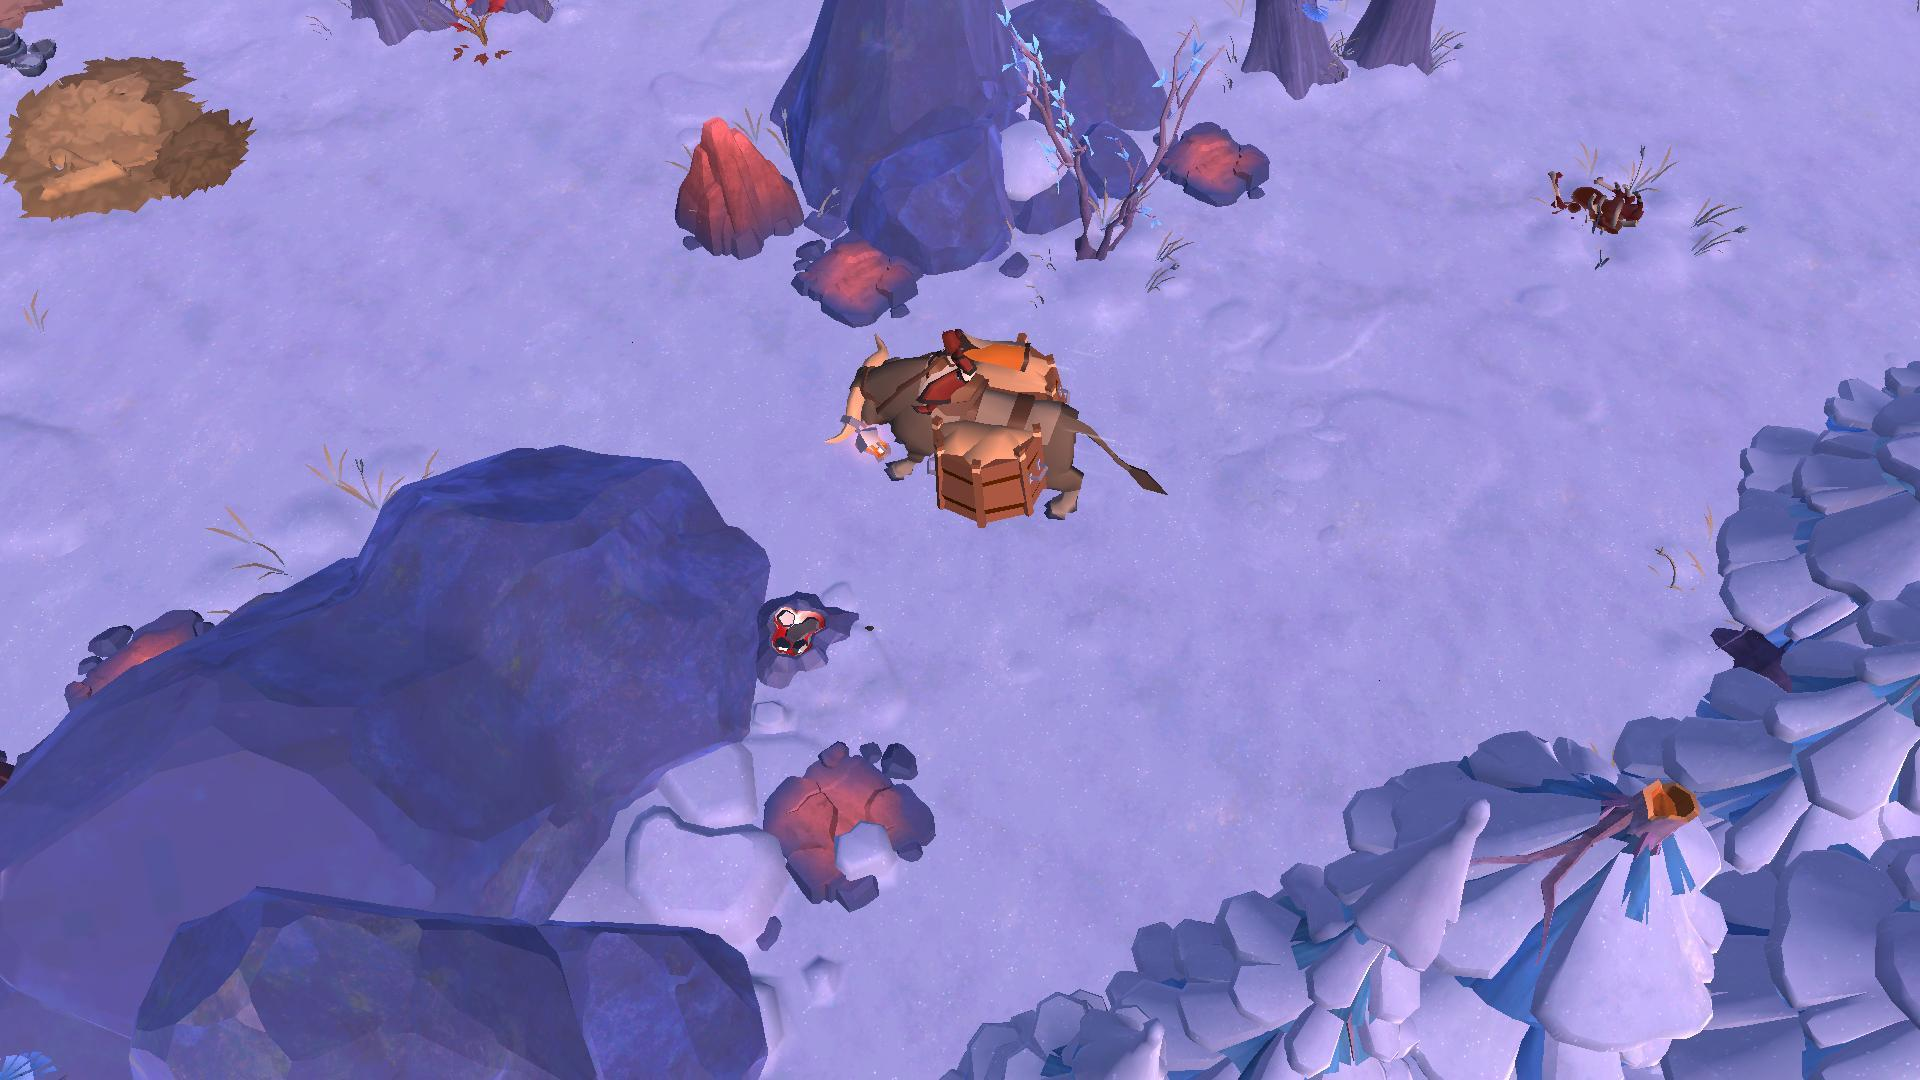rock_t5: (667, 115, 804, 268)
